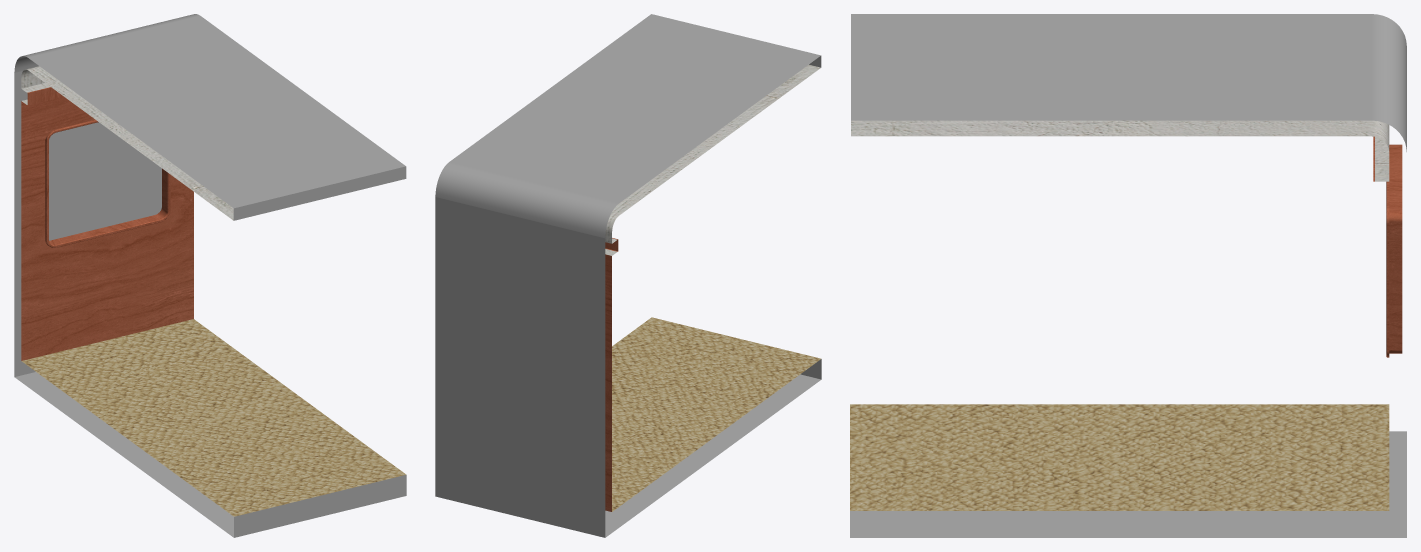
Rendered from interiorWindow.fbx.
3 views of the same model, side by side, from view 1: azimuth 30°, elevation 25°; view 2: azimuth 150°, elevation 25°; view 3: azimuth 270°, elevation 25° (orthographic). The views are drawn at different scales.
Visible parts, largest first — view 1: interiorEnd_0005:interiorMid2:InteriorWindow; view 2: interiorEnd_0005:interiorMid2:InteriorWindow; view 3: interiorEnd_0005:interiorMid2:InteriorWindow.
Boxes of the visible parts, bbox=[...] form: interiorEnd_0005:interiorMid2:InteriorWindow: bbox=[14, 14, 406, 537]; interiorEnd_0005:interiorMid2:InteriorWindow: bbox=[435, 14, 821, 537]; interiorEnd_0005:interiorMid2:InteriorWindow: bbox=[850, 14, 1406, 537].
Size of the model in its own units: 3.49 by 6.37 by 7.71.
Materials: 5 (3 with a texture image).
